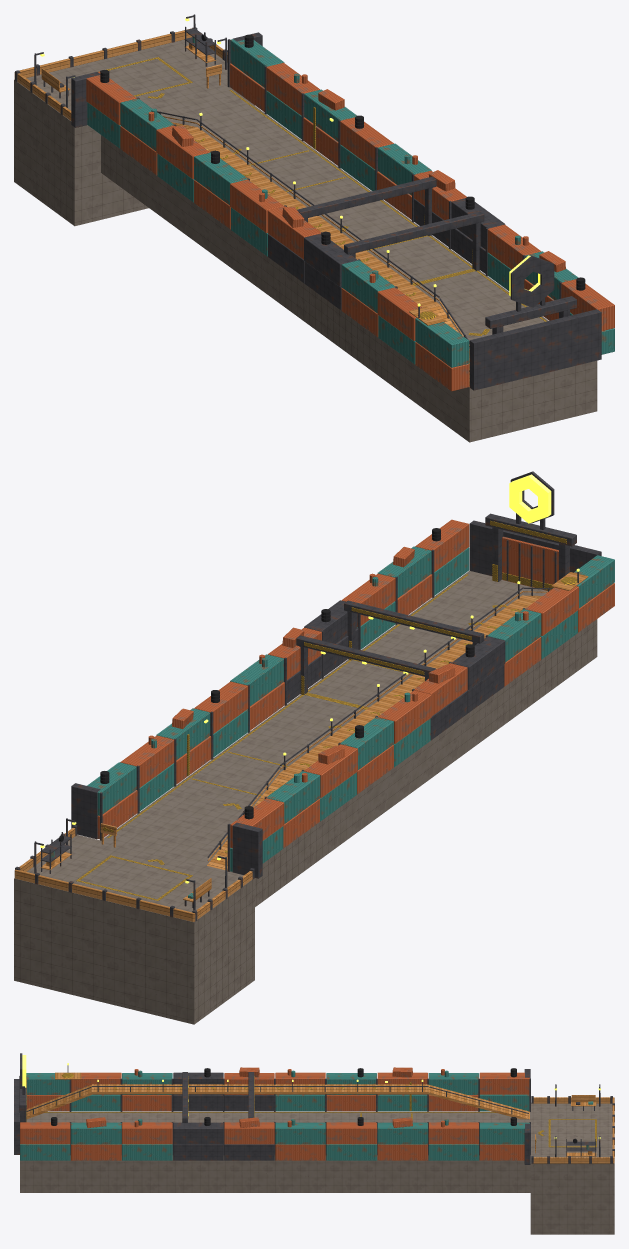
Rendered from level-2-autos.glb.
The picture shows the model from 3 angles, top to bottom: view 1: azimuth 30°, elevation 25°; view 2: azimuth 150°, elevation 25°; view 3: azimuth 270°, elevation 25°; orthographic projection. The views are drawn at different scales.
Visible parts, largest first — view 1: L2_concrete, L2_heavy, L2_rust, L2_teal, L2_wood, L2_hazard, L2_rubber; view 2: L2_concrete, L2_rust, L2_heavy, L2_teal, L2_wood, L2_hazard, L2_glow, L2_rubber; view 3: L2_concrete, L2_rust, L2_teal, L2_heavy, L2_wood, L2_hazard, L2_rubber.
Boxes of the visible parts, bbox=[...] form: L2_concrete: bbox=[14, 39, 597, 442]; L2_heavy: bbox=[15, 14, 601, 390]; L2_rust: bbox=[86, 62, 614, 391]; L2_teal: bbox=[87, 37, 614, 367]; L2_wood: bbox=[14, 28, 469, 386]; L2_hazard: bbox=[98, 57, 546, 371]; L2_rubber: bbox=[100, 34, 585, 290]; L2_concrete: bbox=[14, 571, 597, 1024]; L2_rust: bbox=[97, 519, 614, 848]; L2_heavy: bbox=[15, 471, 601, 921]; L2_teal: bbox=[51, 546, 614, 898]; L2_wood: bbox=[14, 572, 588, 921]; L2_hazard: bbox=[76, 520, 579, 900]; L2_glow: bbox=[40, 474, 579, 883]; L2_rubber: bbox=[58, 528, 474, 841]; L2_concrete: bbox=[20, 1103, 614, 1234]; L2_rust: bbox=[20, 1067, 529, 1160]; L2_teal: bbox=[20, 1070, 593, 1160]; L2_heavy: bbox=[14, 1053, 614, 1164]; L2_wood: bbox=[26, 1072, 614, 1163]; L2_hazard: bbox=[26, 1073, 596, 1147]; L2_rubber: bbox=[51, 1068, 577, 1143].
Size of the model in its own units: 25 by 27.65 by 100.
8 materials, 6 textured.
